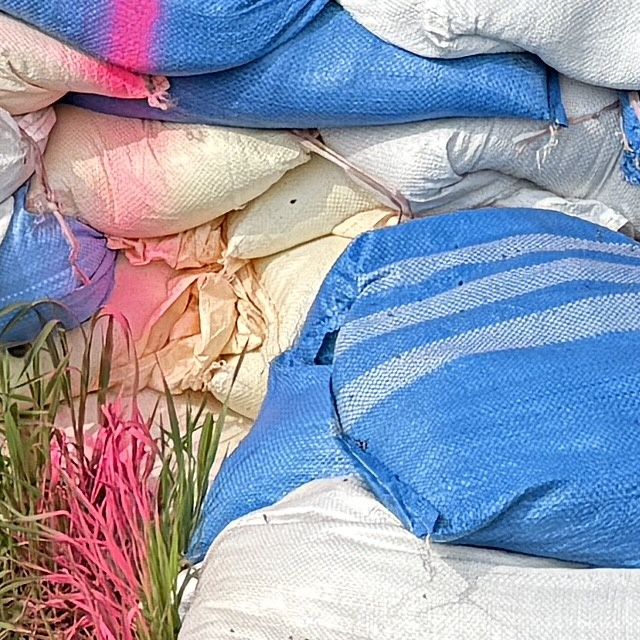sandbag: (190, 209, 640, 568), (180, 480, 640, 640), (61, 3, 567, 129), (44, 107, 309, 238), (64, 219, 233, 393), (321, 109, 621, 204), (340, 0, 640, 90), (208, 237, 350, 420), (0, 0, 329, 77), (0, 189, 115, 346), (226, 158, 400, 260), (145, 264, 271, 394), (413, 173, 629, 231), (0, 108, 56, 205), (560, 76, 619, 122)
